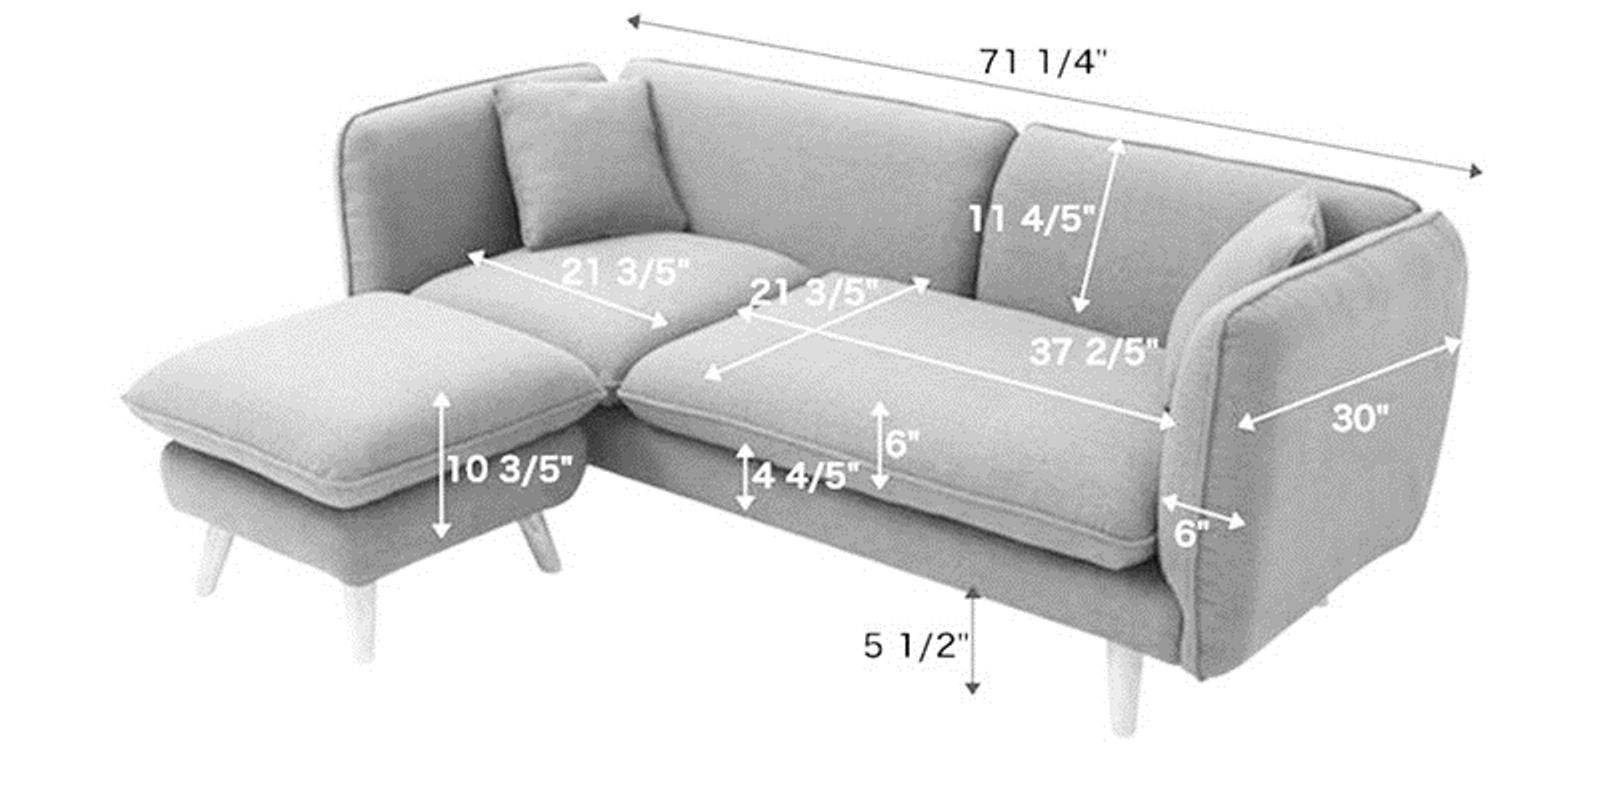Gloria Three Seater Sofa with Ottoman in Beige Colour by CasaCraft: (123, 60, 1508, 734)
